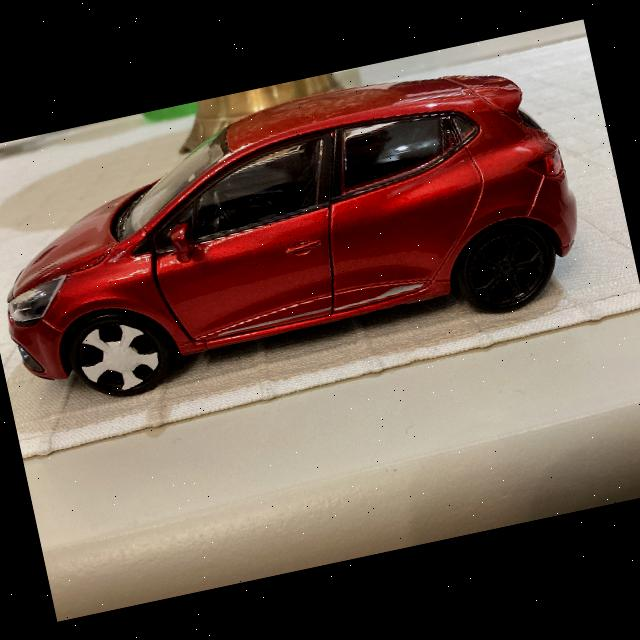Dogru_Jant: (460, 226, 552, 310)
Yanlis_Jant: (72, 316, 165, 401)
